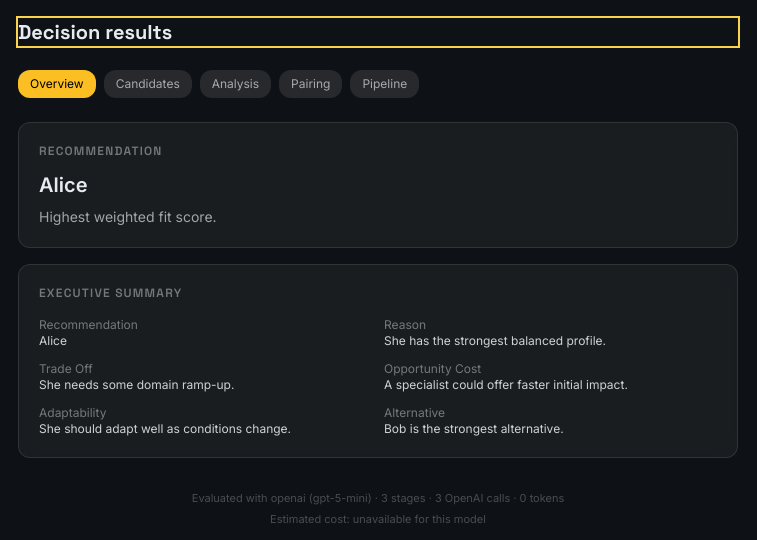
Results — pairing tab reflects honest pairing state, never a fabricated pair › shows an honest unavailable message, with no fabricated pair, when every pair evaluation failed
Click the tab "Pairing" at [311, 84], box top-left (279, 70), bottom-right (342, 98)
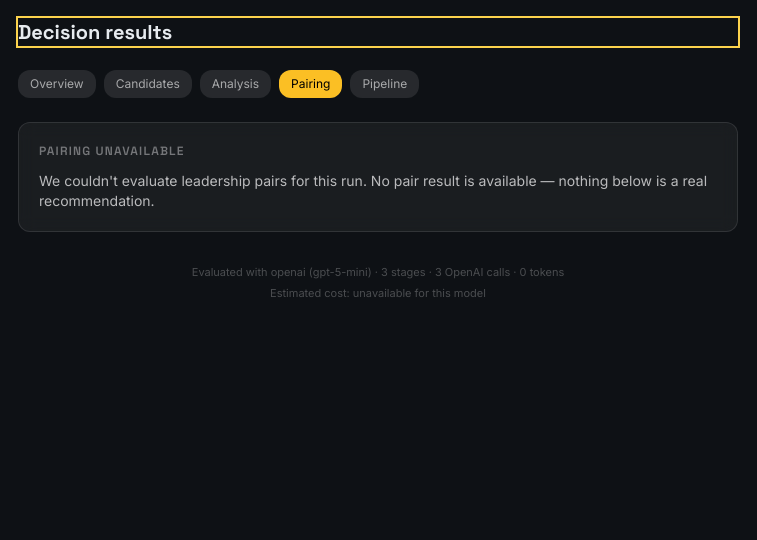
expect the heading "Pairing Unavailable" is shown: met, box top-left (39, 143), bottom-right (185, 159)
